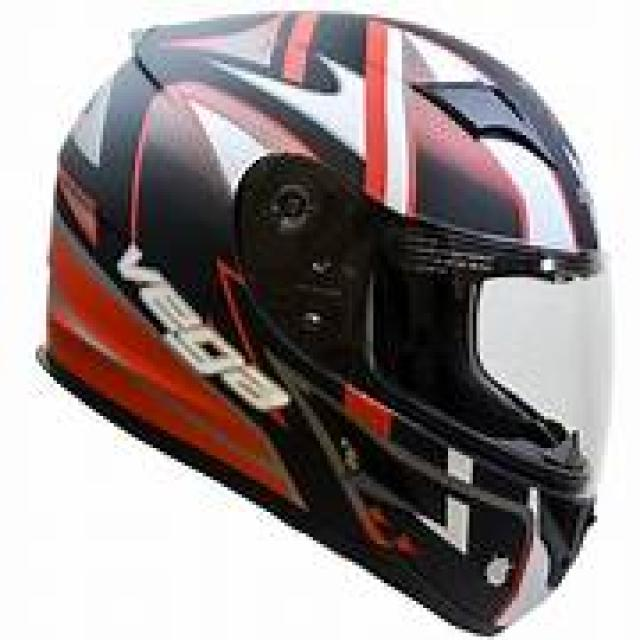helmet: (39, 14, 608, 629)
